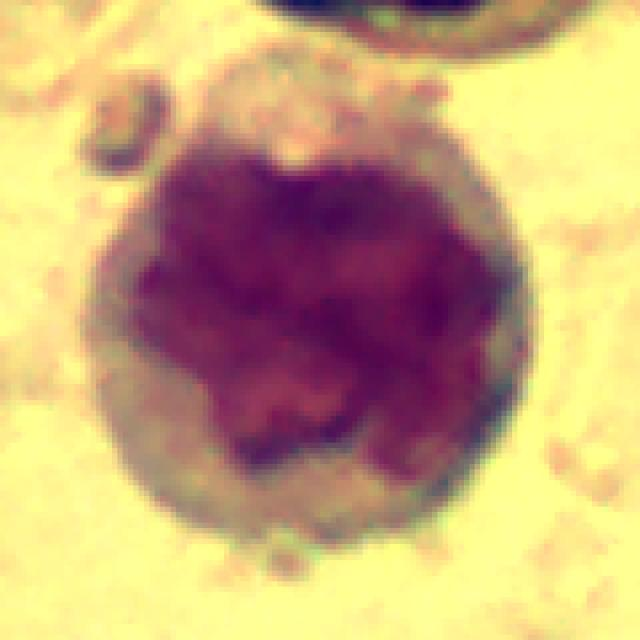WBC: (57, 26, 558, 564)
